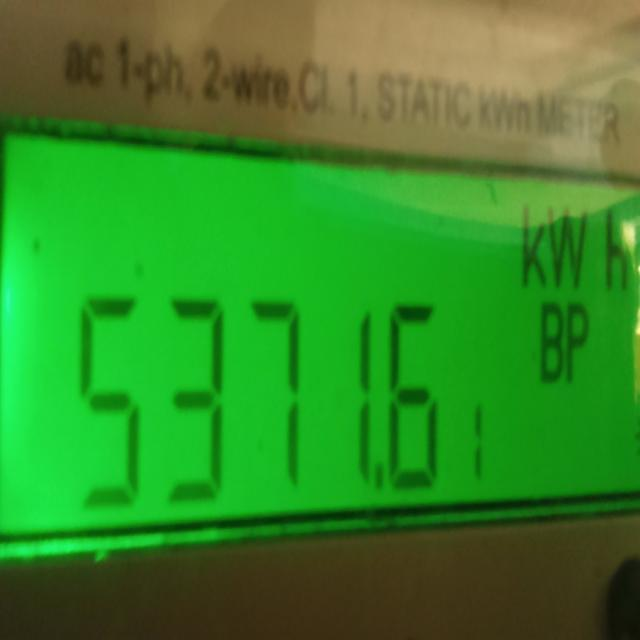.: (368, 454, 386, 501)
1: (330, 304, 377, 489)
3: (156, 286, 228, 508)
5: (58, 274, 146, 516)
6: (384, 290, 440, 500)
7: (243, 284, 308, 497)
